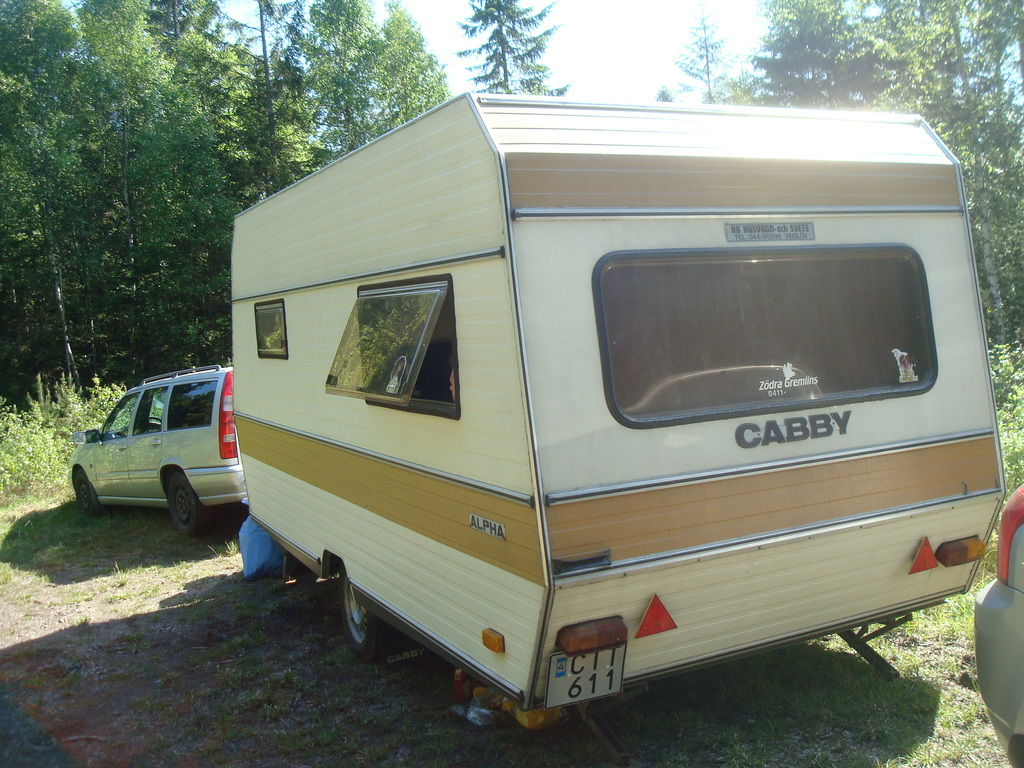Tree: (0, 0, 445, 409), (652, 0, 1024, 409), (452, 0, 572, 96)
